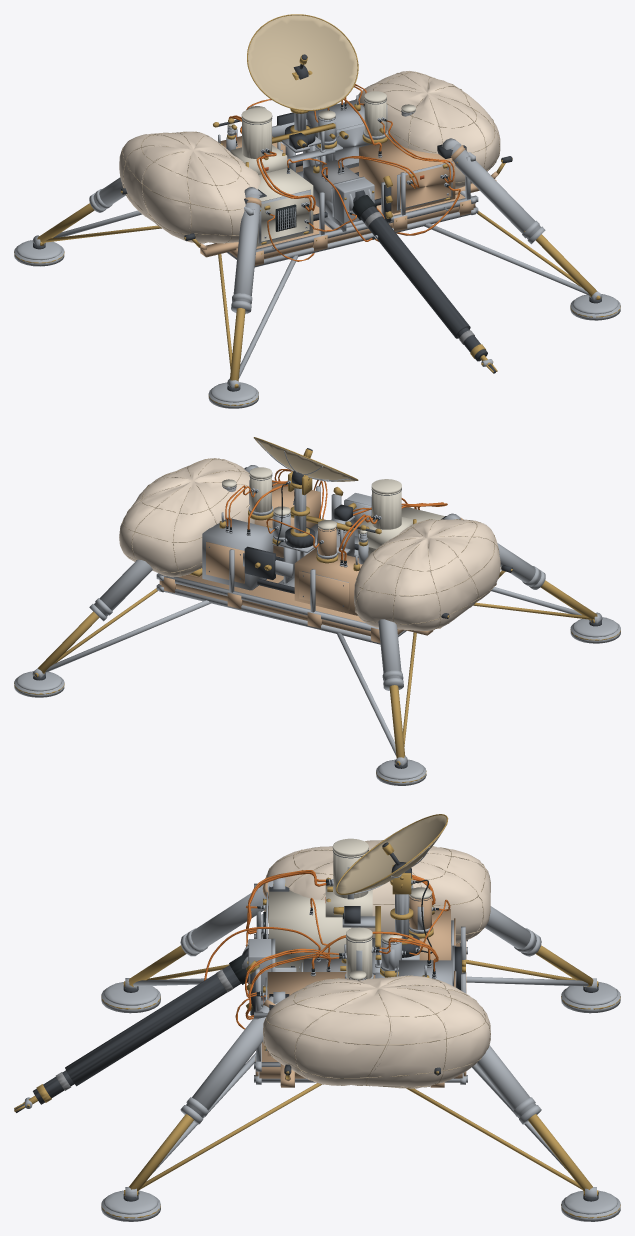
The model's file is viking-1.glb.
3 renders of one model, top to bottom at view 1: azimuth 30°, elevation 25°; view 2: azimuth 150°, elevation 25°; view 3: azimuth 270°, elevation 25°, orthographic. The views are drawn at different scales.
Visible parts, largest first — view 1: VK_Body, VK_Legs, VK_Antenna, VK_Arm, VK_Cameras; view 2: VK_Body, VK_Legs, VK_Antenna, VK_Cameras; view 3: VK_Body, VK_Legs, VK_Arm, VK_Antenna, VK_Cameras.
Boxes of the visible parts, box(x1,y1,x2,y2) form: VK_Body: box(119, 71, 512, 267); VK_Legs: box(14, 138, 620, 408); VK_Antenna: box(247, 14, 358, 144); VK_Arm: box(321, 167, 497, 373); VK_Cameras: box(241, 91, 388, 159); VK_Body: box(119, 458, 512, 644); VK_Legs: box(14, 465, 620, 785); VK_Antenna: box(253, 437, 358, 548); VK_Cameras: box(248, 467, 401, 529); VK_Body: box(235, 840, 490, 1088); VK_Legs: box(101, 877, 620, 1221); VK_Arm: box(14, 926, 320, 1112); VK_Antenna: box(336, 814, 448, 957); VK_Cameras: box(327, 838, 373, 978).
Bounding box in the file's own units: 3.25 × 1.84 × 3.56.
